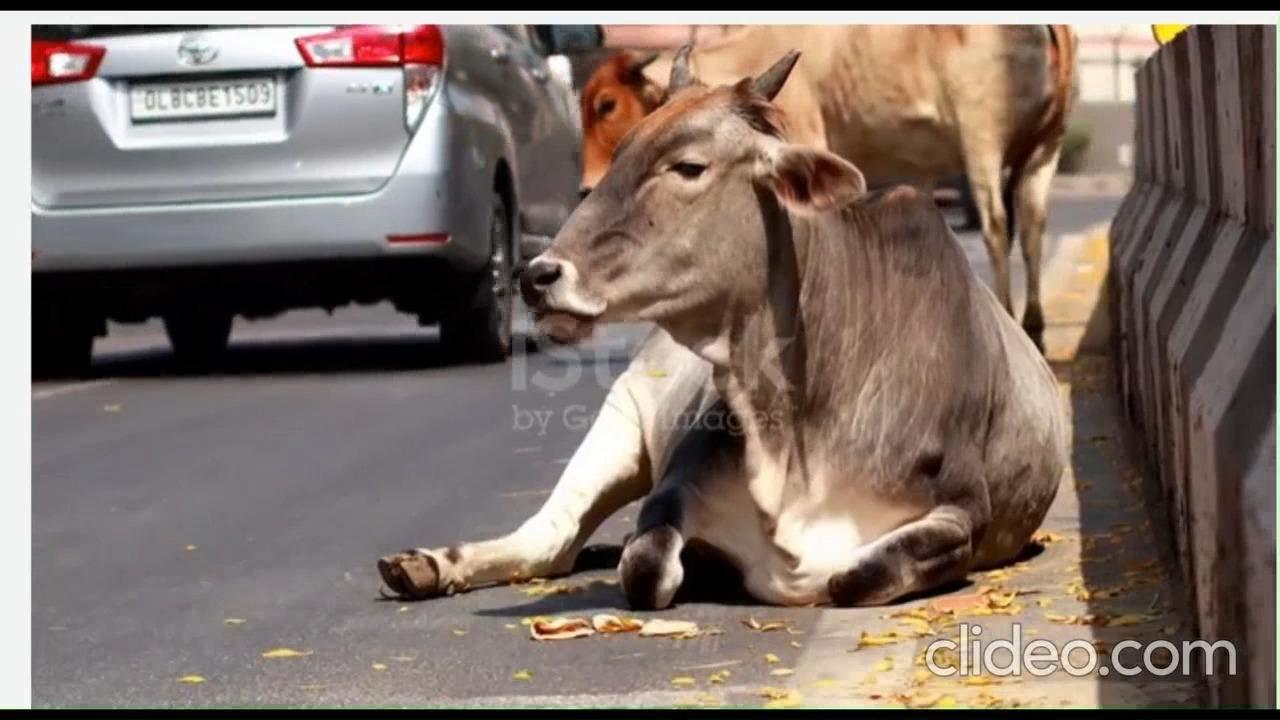Cow: (374, 52, 1068, 603), (584, 33, 1067, 356)
